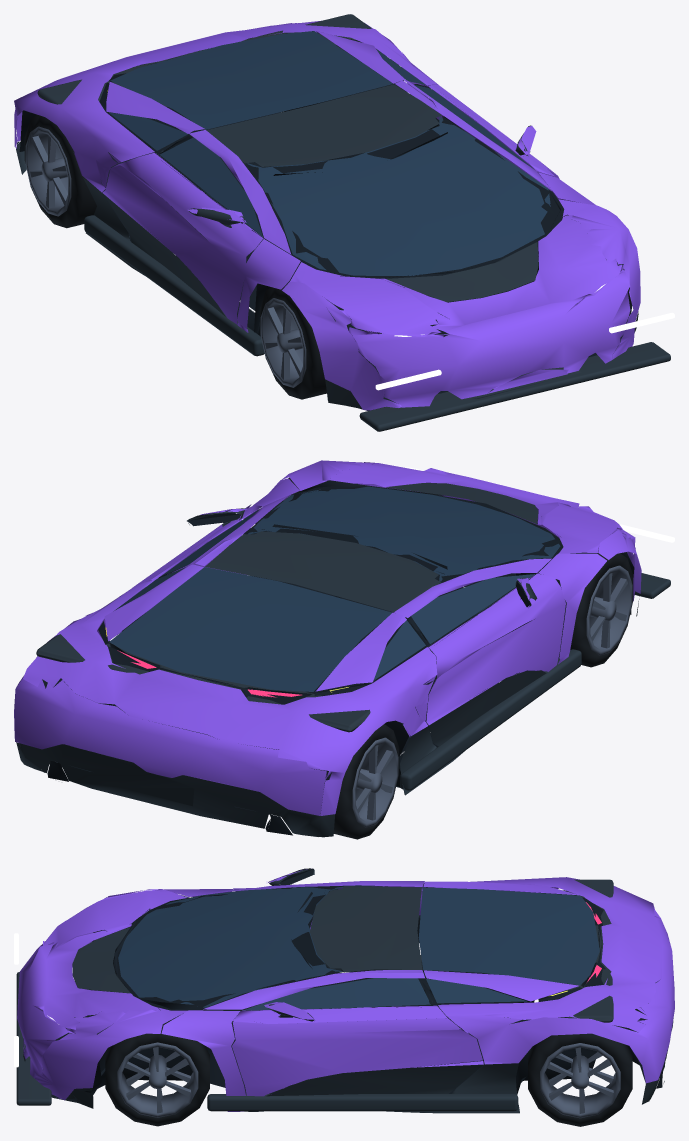
File: prism-lod2.glb
The picture shows the model from 3 angles, top to bottom: view 1: azimuth 30°, elevation 25°; view 2: azimuth 150°, elevation 25°; view 3: azimuth 270°, elevation 25°; orthographic projection. The views are drawn at different scales.
Parts seen in each view (by area): view 1: Body, WheelRearR, WheelFrontR; view 2: Body, WheelRearR, WheelFrontR; view 3: Body, WheelRearL, WheelFrontL.
Boxes of the visible parts, <box> form: Body: <box>14,14,674,431</box>; WheelRearR: <box>24,114,96,228</box>; WheelFrontR: <box>260,284,326,399</box>; Body: <box>14,460,674,837</box>; WheelRearR: <box>333,724,399,839</box>; WheelFrontR: <box>570,548,633,667</box>; Body: <box>14,868,674,1113</box>; WheelRearL: <box>528,1033,632,1126</box>; WheelFrontL: <box>105,1020,209,1126</box>.
Bounding box in the file's own units: 2.57 × 1.03 × 4.73.
